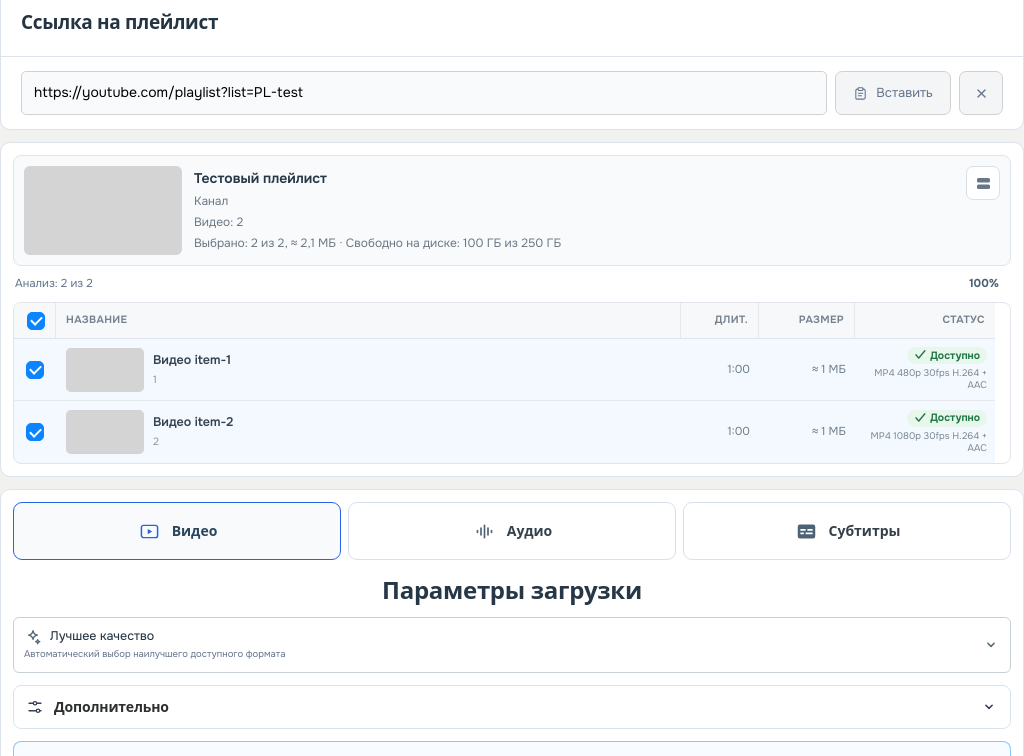
Test case: Playlist › uses exact custom parameters and counts only matching rows in strict mode
The width and height of the screenshot is (1024, 756).
Expected: the text "Доступно" is shown 2 times, [907,347,987,364]; [907,410,987,427]
Click the button "Дополнительно" at (111, 706), box [26,698,998,716]
(page scrolled)
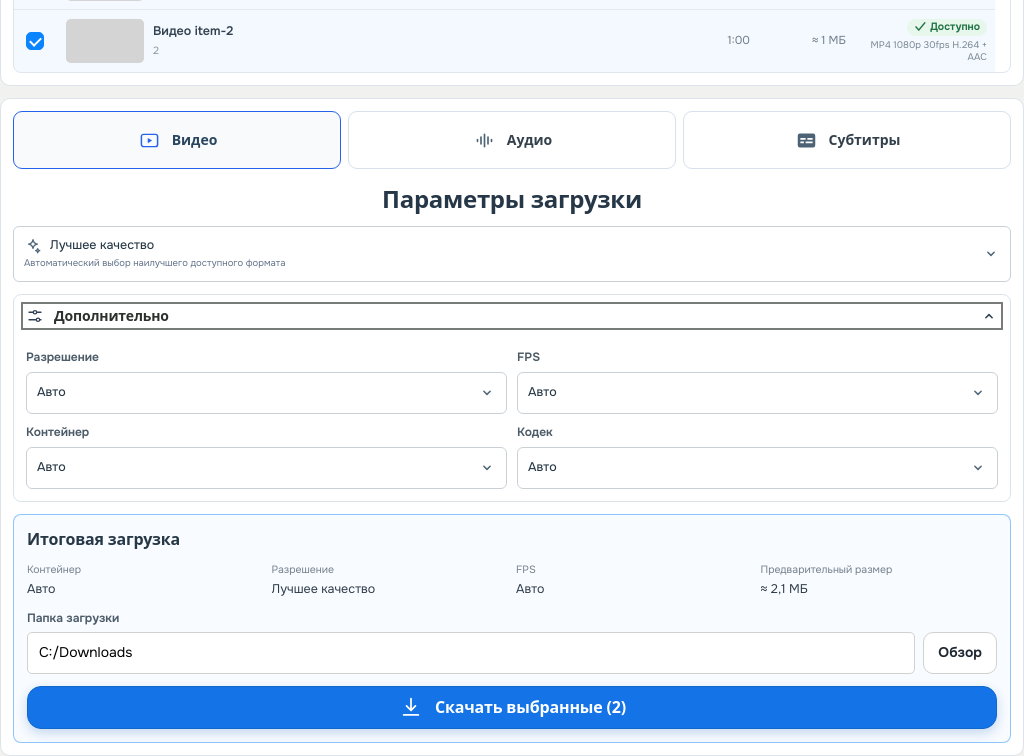
Click the dropdown named "Разрешение" at (51, 392), box [26,372,507,414]
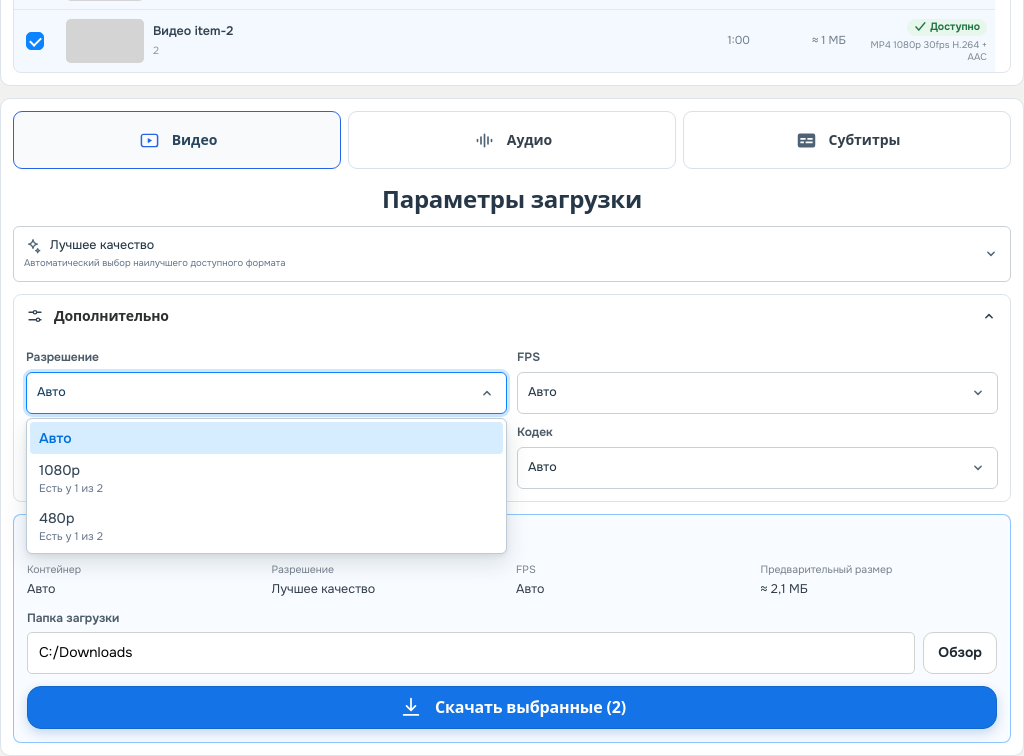
Now the text "Есть у 1 из 2" is shown 2 times, box [39,481,103,495]; [39,529,103,543]
Click the text "480p" at (57, 518), box [39,509,74,527]
(page scrolled)
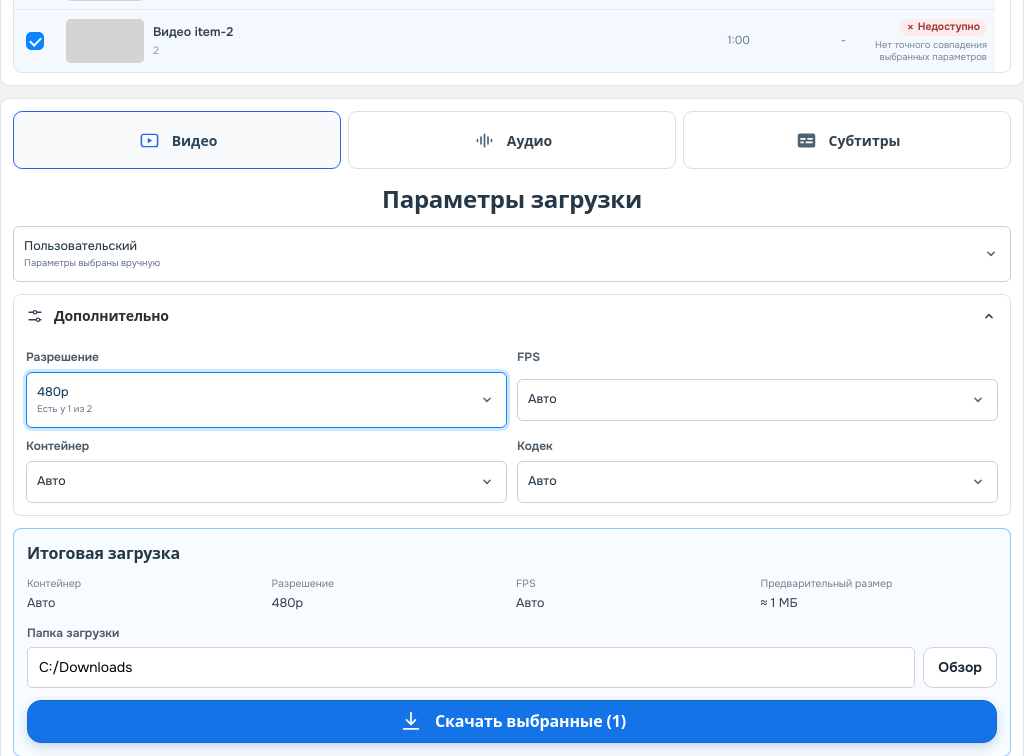
Expected: the button "Скачать выбранные (1)" is enabled, [27,700,997,744]
Now the text "Нет точного совпадения выбранных параметров" is shown, box [863,40,987,64]
